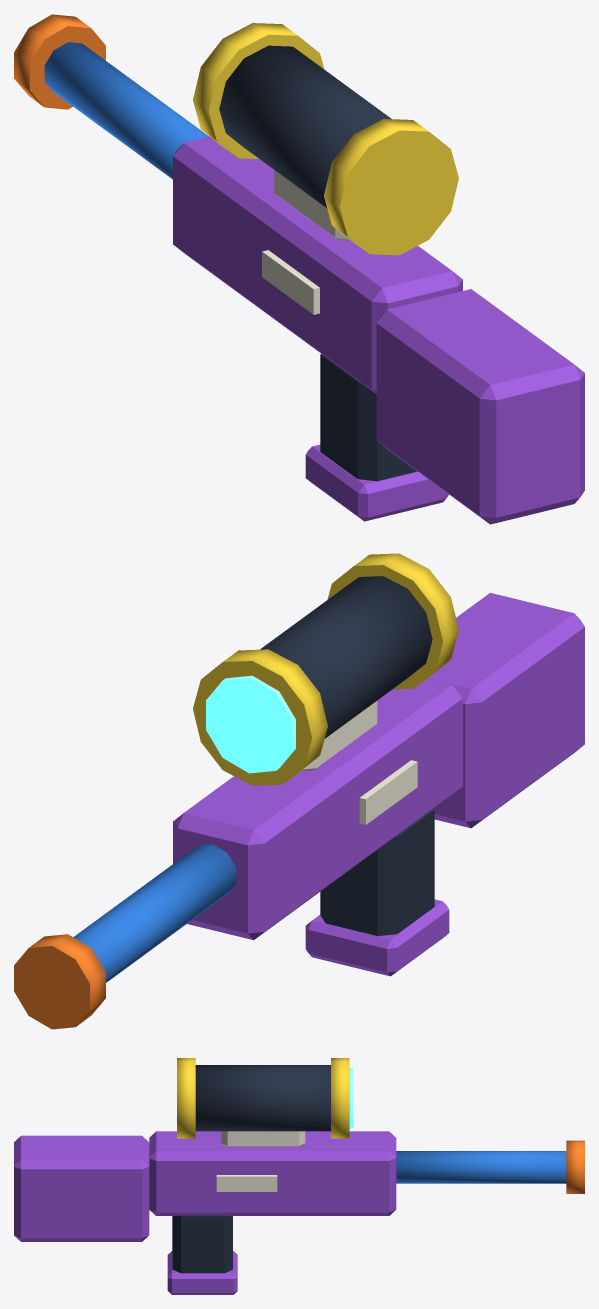
File: fps_w_long.glb
The picture shows the model from 3 angles, top to bottom: view 1: azimuth 30°, elevation 25°; view 2: azimuth 150°, elevation 25°; view 3: azimuth 270°, elevation 25°; orthographic projection. The views are drawn at different scales.
Parts seen in each view (by area): view 1: detail_Grape, detail_Lemon, Scope, Long barrel, grip, muzzle_tip, detail_Vanilla plastic; view 2: detail_Grape, Scope, detail_Lemon, Long barrel, grip, Scope glass, muzzle_tip, detail_Vanilla plastic; view 3: detail_Grape, Scope, Long barrel, grip, detail_Lemon, detail_Vanilla plastic, muzzle_tip.
Part boxes in pixels (box(x1,y1,x2,y2)): detail_Grape: box(173, 136, 584, 524); detail_Lemon: box(193, 23, 458, 255); Scope: box(219, 45, 391, 208); Long barrel: box(44, 42, 208, 179); grip: box(320, 353, 417, 481); muzzle_tip: box(14, 14, 105, 109); detail_Vanilla plastic: box(262, 170, 350, 314); detail_Grape: box(173, 592, 584, 976); Scope: box(260, 576, 432, 738); detail_Lemon: box(193, 553, 458, 785); Long barrel: box(73, 844, 236, 982); grip: box(320, 808, 434, 935); Scope glass: box(206, 675, 295, 773); muzzle_tip: box(14, 934, 105, 1029); detail_Vanilla plastic: box(301, 701, 417, 824); detail_Grape: box(14, 1131, 396, 1294); Scope: box(195, 1065, 330, 1131); Long barrel: box(396, 1151, 566, 1183); grip: box(172, 1215, 232, 1273); detail_Lemon: box(177, 1058, 349, 1138); detail_Vanilla plastic: box(216, 1131, 305, 1191); muzzle_tip: box(566, 1140, 584, 1193).
Size of the model in its own units: 0.17 by 0.515 by 1.2.
